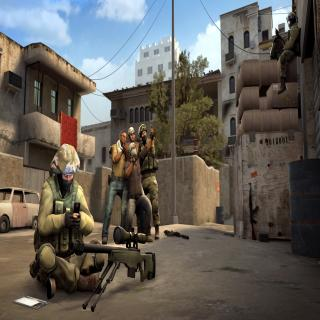CT-Head: (51, 142, 80, 193), (139, 123, 149, 143)
T-Head: (128, 141, 140, 158), (119, 130, 128, 147), (128, 125, 136, 142)
